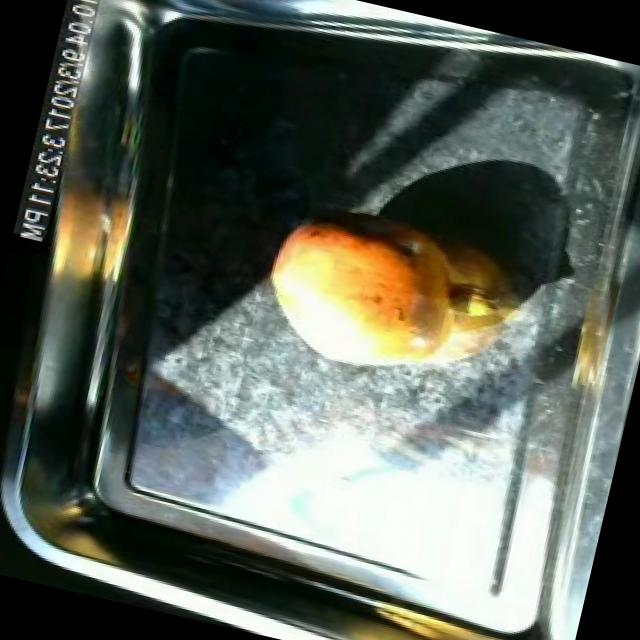fruit: (241, 195, 490, 402)
